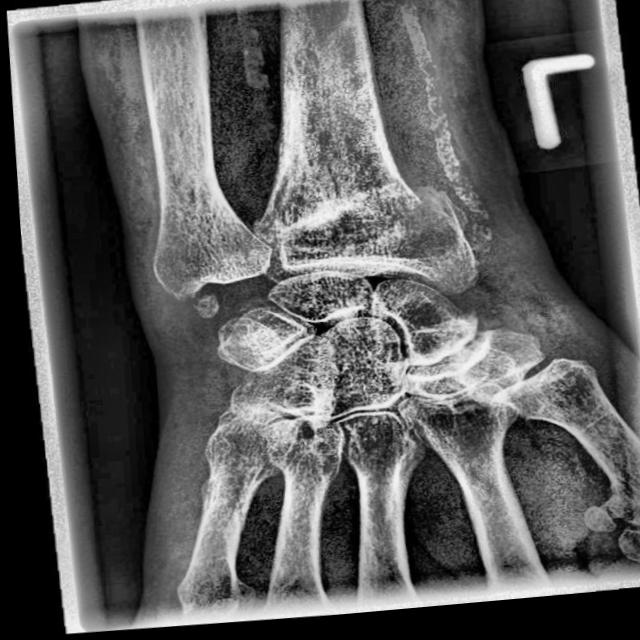fracture: (248, 185, 401, 248)
